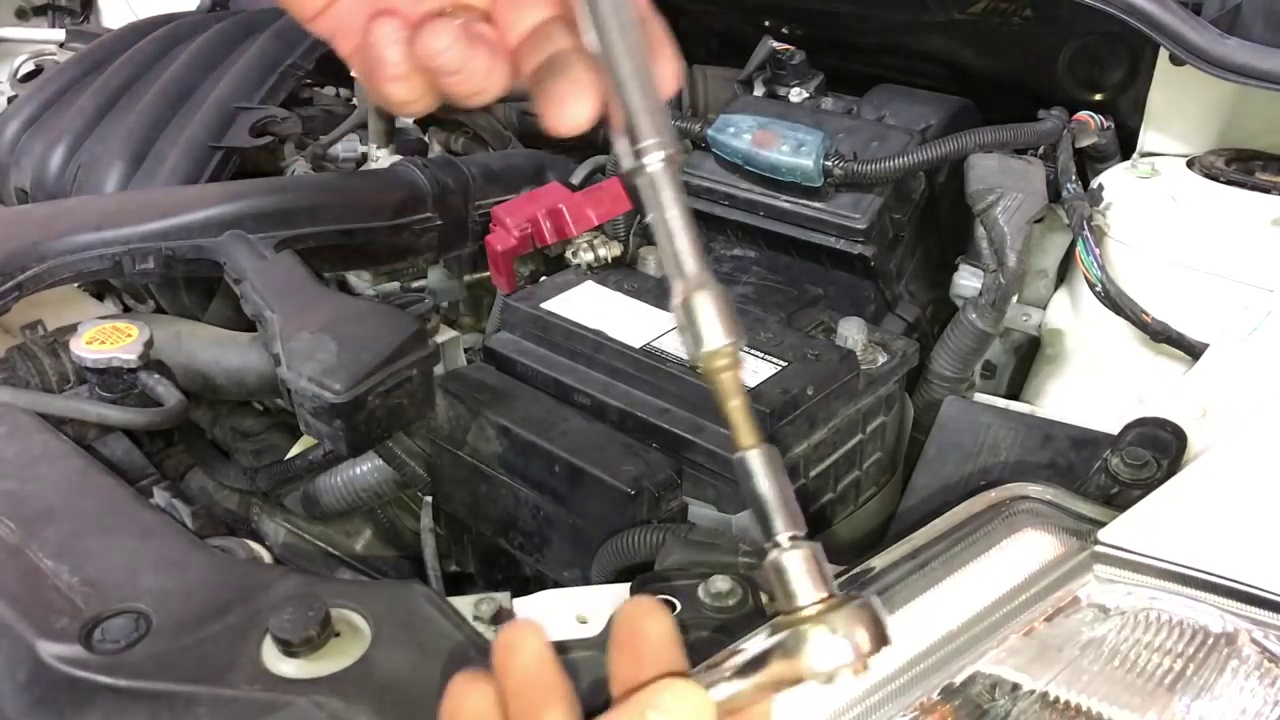battery: (494, 226, 912, 436)
pos_disconnected: (461, 168, 682, 314)
pos_touched: (405, 32, 682, 313), (816, 288, 910, 391)
